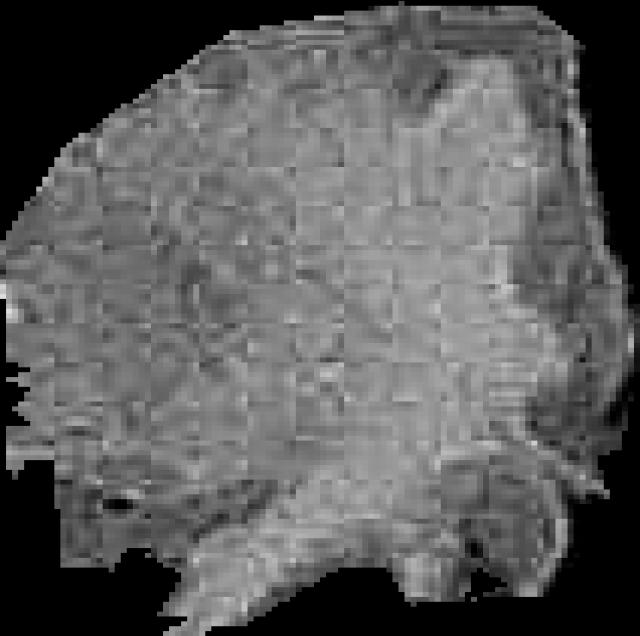tumor_moderate_chance: (0, 1, 640, 636)
